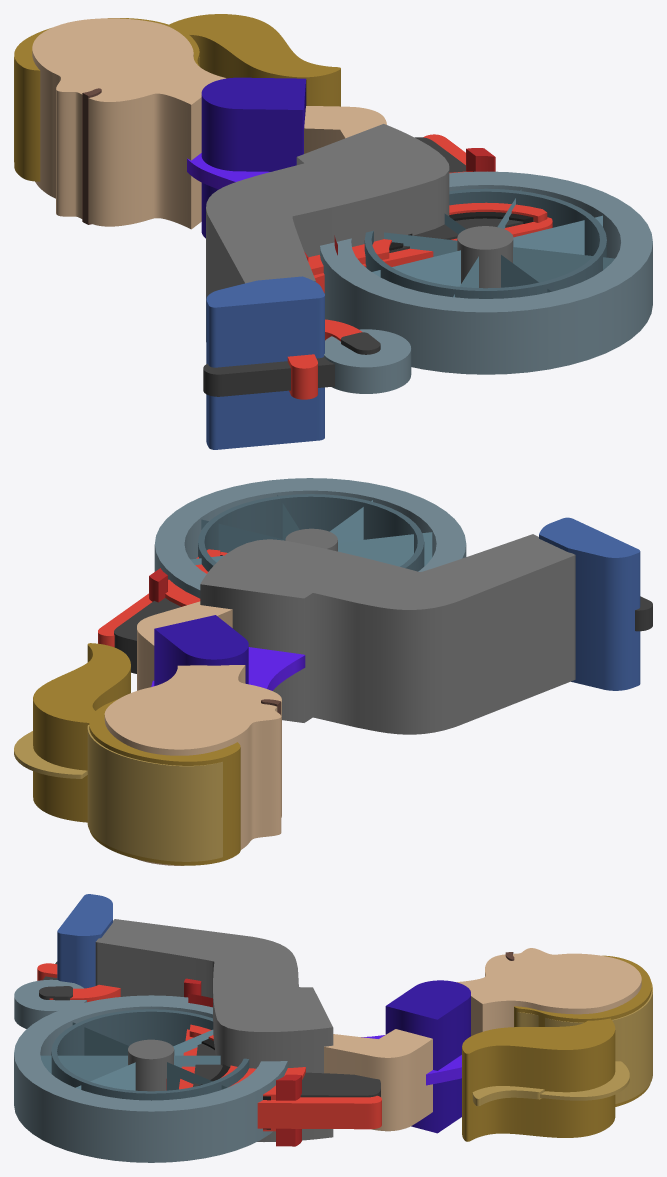
The model's file is emoji_u1f469_1f3fc_200d_1f9bd.glb.
The picture shows the model from 3 angles, top to bottom: view 1: azimuth 30°, elevation 25°; view 2: azimuth 150°, elevation 25°; view 3: azimuth 270°, elevation 25°; orthographic projection. The views are drawn at different scales.
Parts seen in each view (by area): view 1: emoji_u1f469_1f3fc_200d_1f9bd; view 2: emoji_u1f469_1f3fc_200d_1f9bd; view 3: emoji_u1f469_1f3fc_200d_1f9bd.
Boxes of the visible parts, box(x1,y1,x2,y2) form: emoji_u1f469_1f3fc_200d_1f9bd: box(14, 14, 652, 449); emoji_u1f469_1f3fc_200d_1f9bd: box(14, 478, 652, 865); emoji_u1f469_1f3fc_200d_1f9bd: box(14, 894, 652, 1162).
Size of the model in its own units: 0.022 by 0.0064 by 0.0316.
